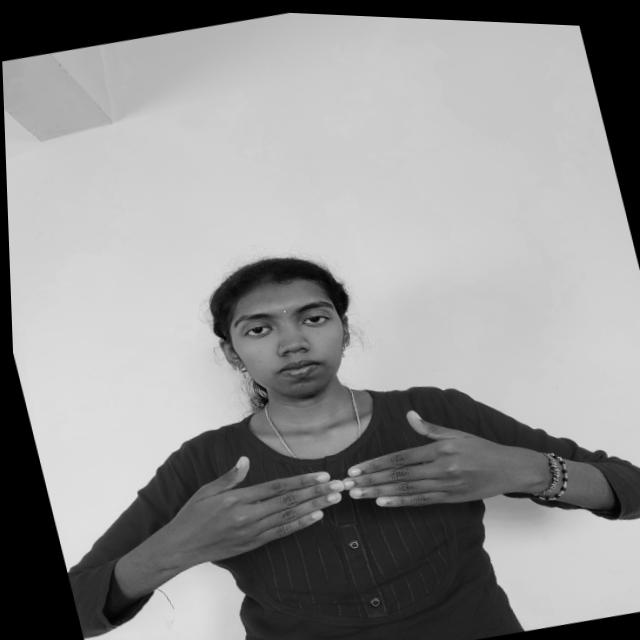Night: (125, 368, 542, 590)
